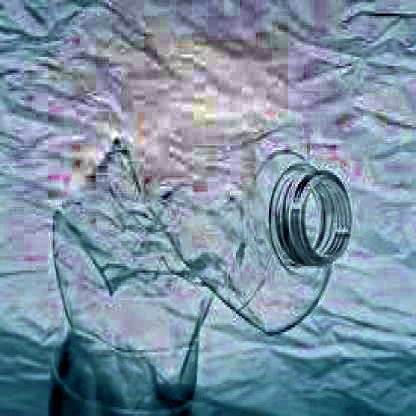pbottle: (44, 127, 358, 416)
